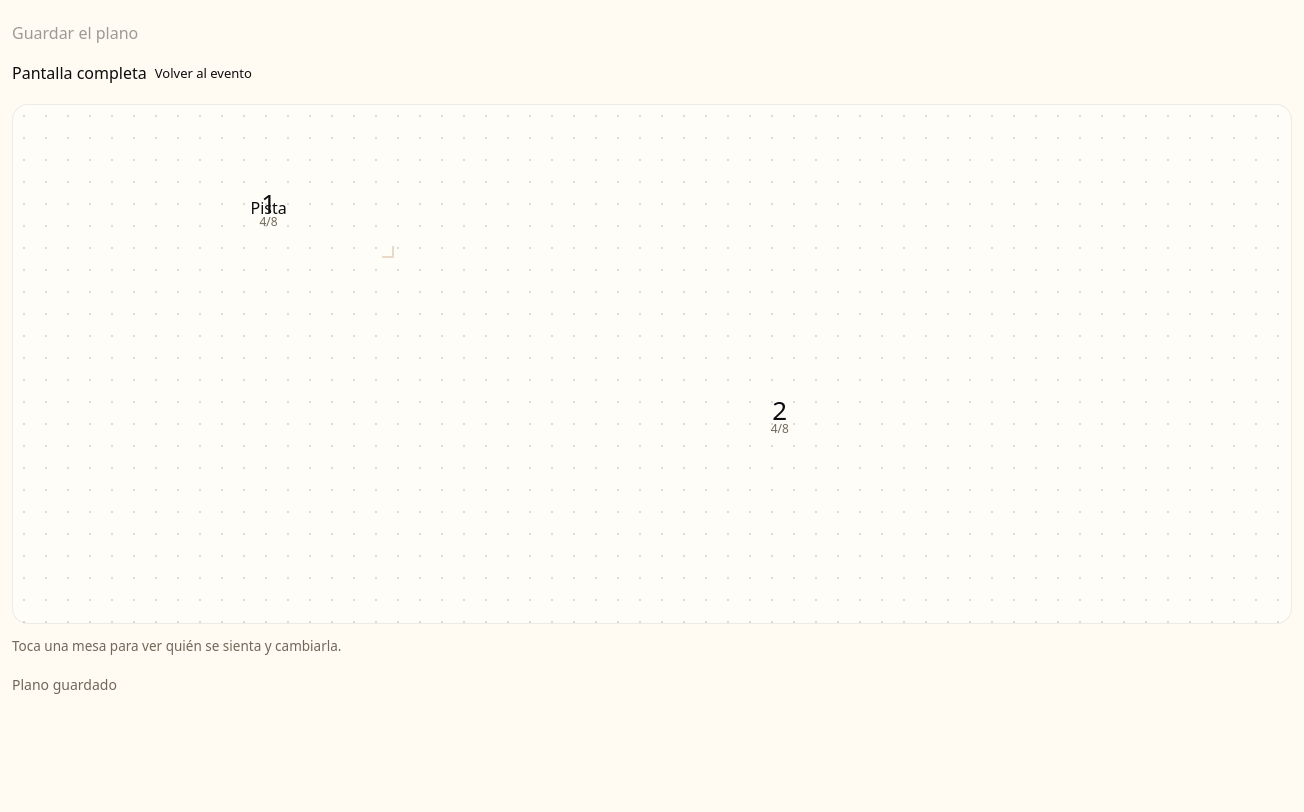
Test: FloorPlan › enseña el error del servidor sin perder los cambios locales
This screenshot has width=1304, height=812.
Press the mouse on the button named "Mesa 01": (269, 209) [231,171,307,247]
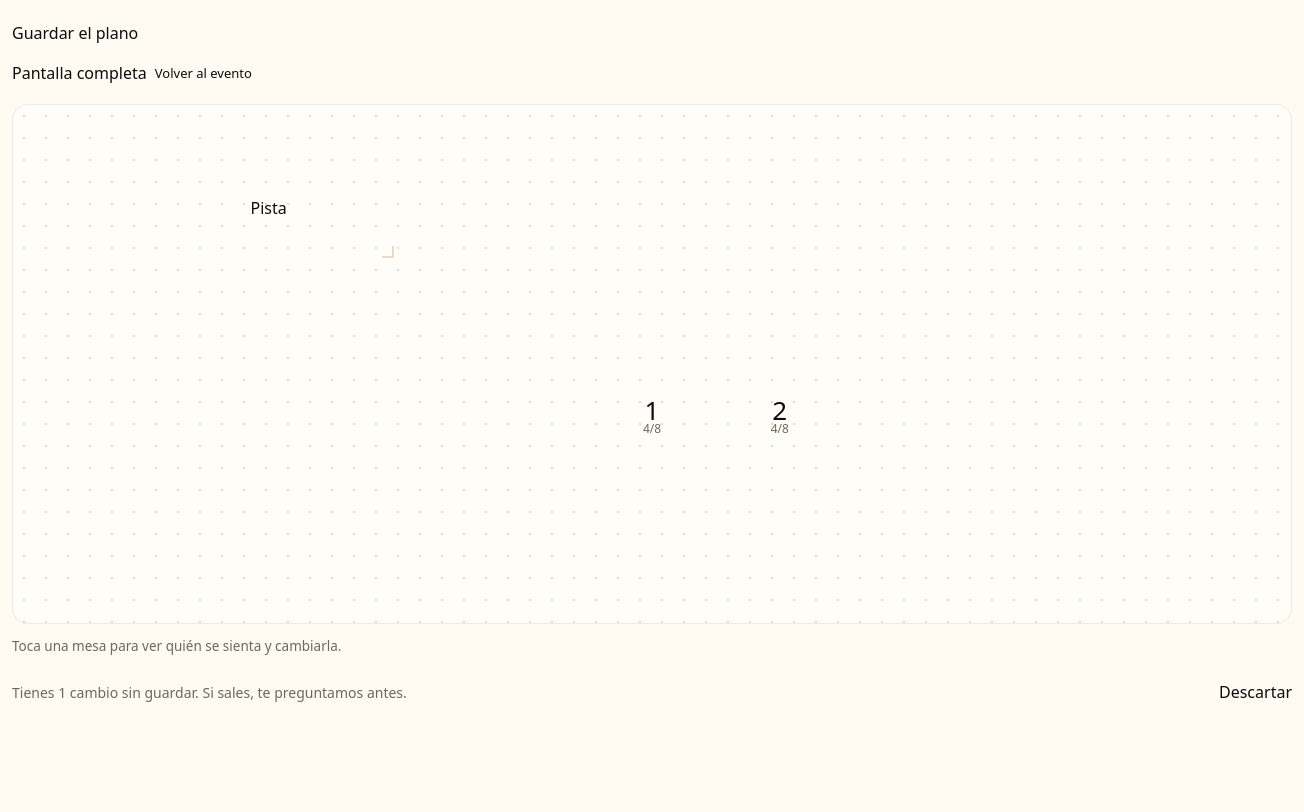
Click the button "Guardar el plano": (75, 34) [12,12,138,56]
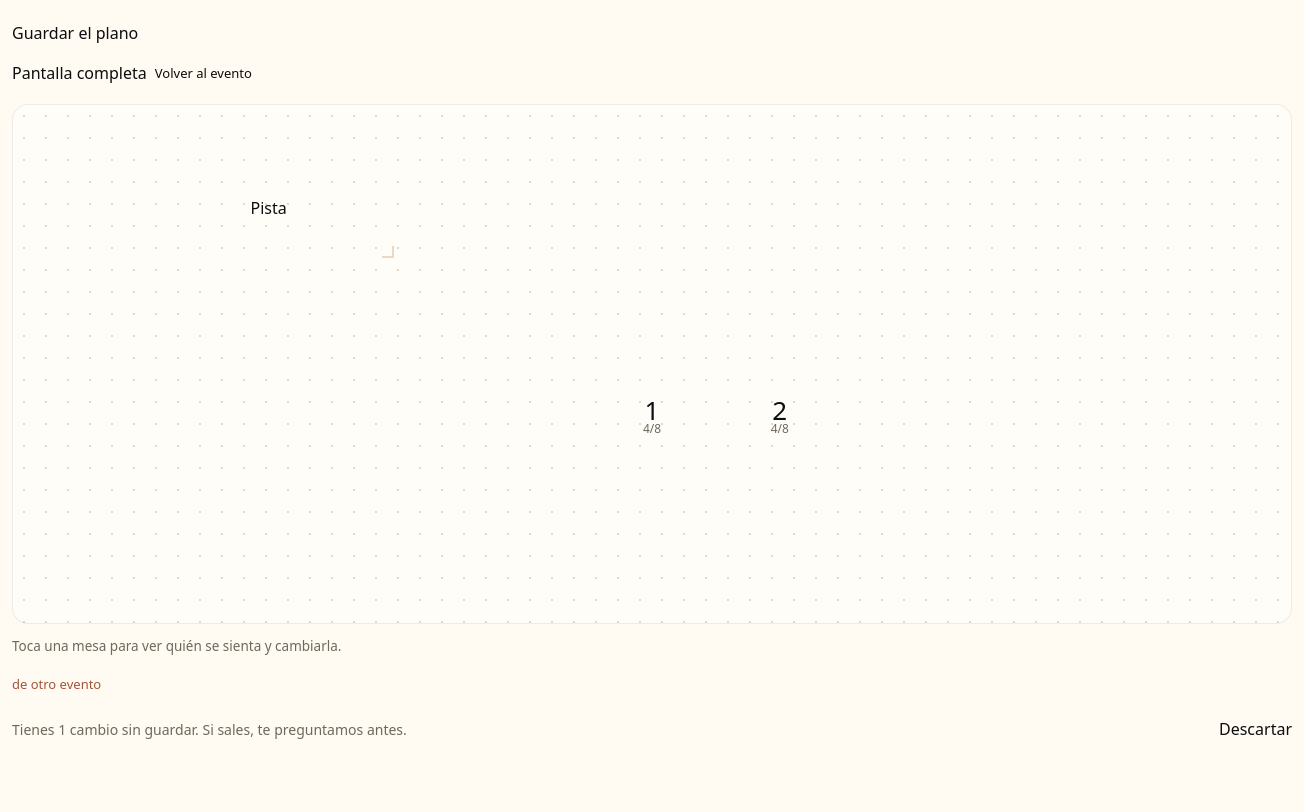
Result: the button "Guardar el plano" is enabled at [12,12,138,56]
Result: the message "de otro evento" is shown at [12,675,101,693]
